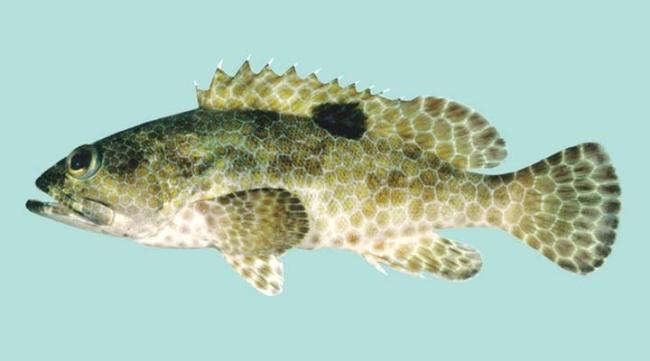fish: (25, 54, 623, 297)
